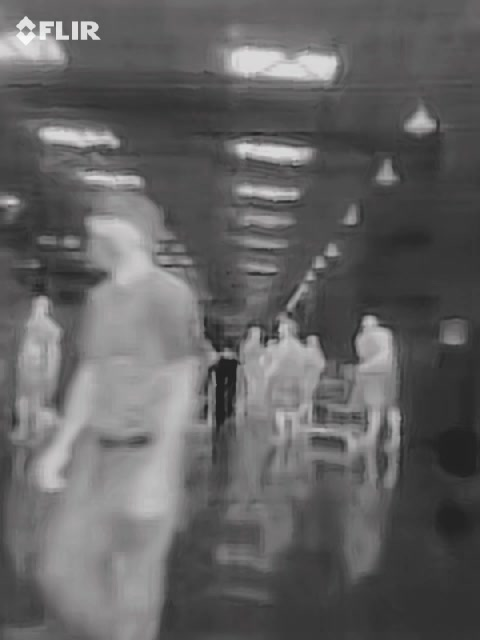head: (89, 195, 158, 271)
